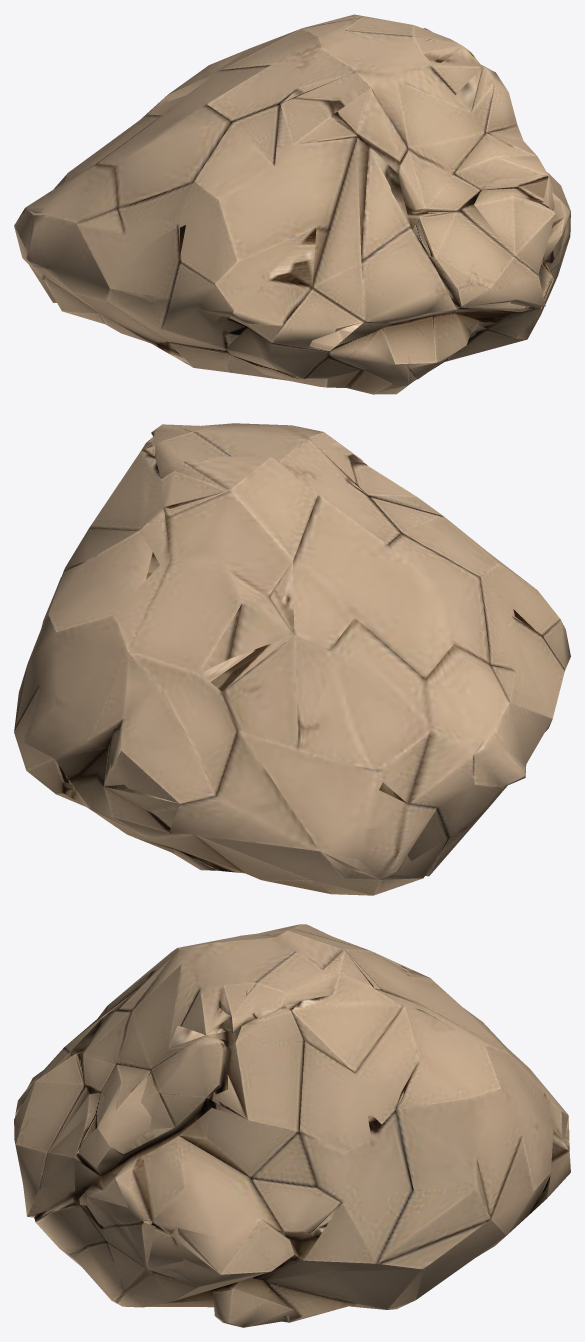
File: boulder.glb
The picture shows the model from 3 angles, top to bottom: view 1: azimuth 30°, elevation 25°; view 2: azimuth 150°, elevation 25°; view 3: azimuth 270°, elevation 25°; orthographic projection. The views are drawn at different scales.
Visible parts, largest first — view 1: environment-boulder, environment-boulder-background; view 2: environment-boulder, environment-boulder-background; view 3: environment-boulder, environment-boulder-background.
Part boxes in pixels (left/top/right/bottom): environment-boulder: left=14, top=14, right=570, bottom=394; environment-boulder-background: left=25, top=28, right=569, bottom=387; environment-boulder: left=14, top=423, right=570, bottom=895; environment-boulder-background: left=26, top=432, right=564, bottom=879; environment-boulder: left=14, top=924, right=570, bottom=1327; environment-boulder-background: left=15, top=938, right=569, bottom=1321.
Size of the model in its own units: 52 by 30 by 48.
Materials: 1 (1 with a texture image).
